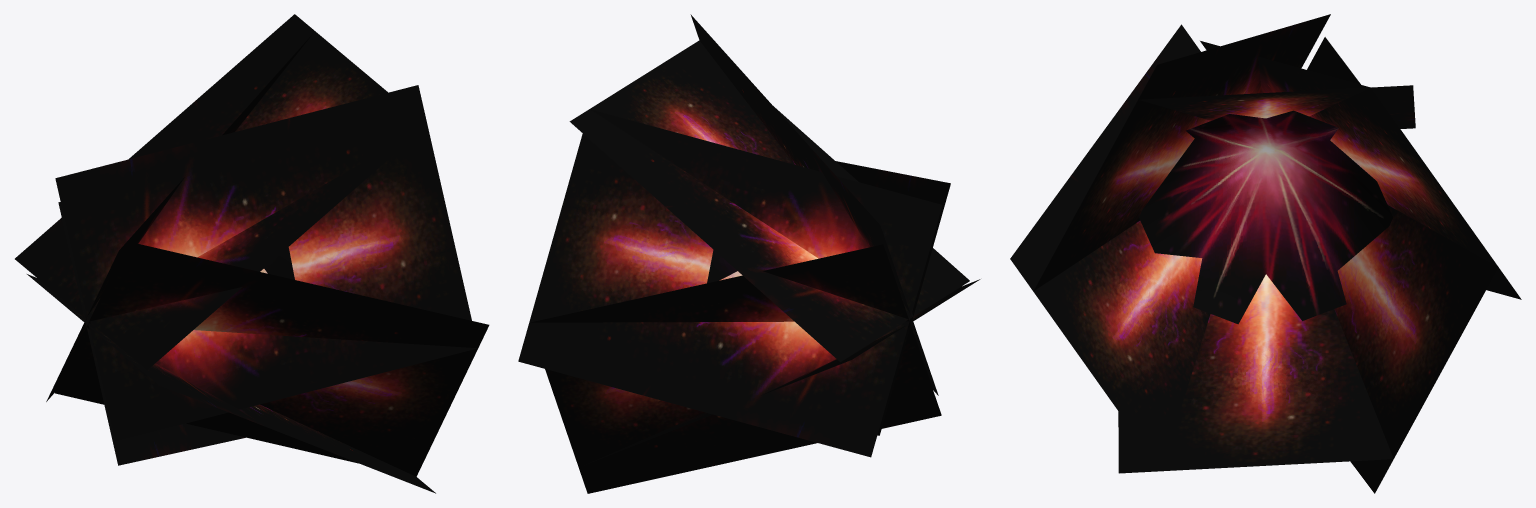
The model's file is RocketDummy02.FBX.
3 renders of one model, left to right at view 1: azimuth 30°, elevation 25°; view 2: azimuth 150°, elevation 25°; view 3: azimuth 270°, elevation 25°, orthographic. The views are drawn at different scales.
Visible parts, largest first — view 1: RocketDummy02; view 2: RocketDummy02; view 3: RocketDummy02.
Boxes of the visible parts, x1,y1,x2,y2 form: RocketDummy02: (15,14,489,493); RocketDummy02: (518,14,980,493); RocketDummy02: (1010,14,1521,493).
Bounding box in the file's own units: 57.73 × 82.04 × 88.68.
1 material, 1 textured.
